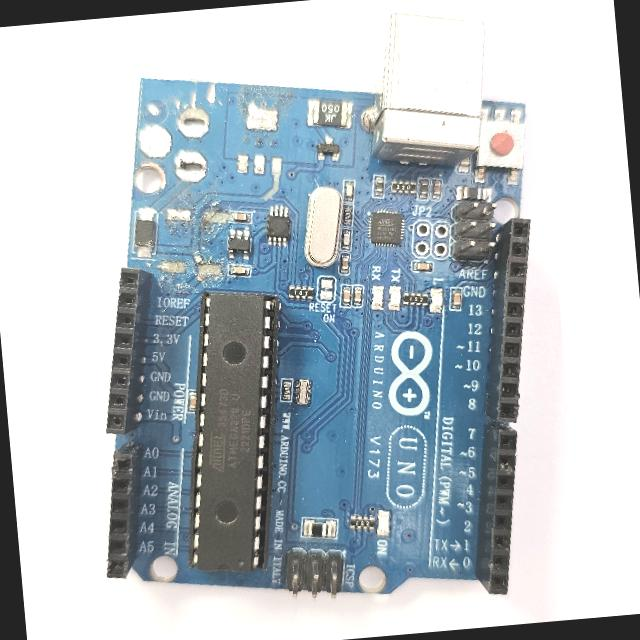missing_capacitors: (154, 202, 232, 284)
missing_eps: (149, 94, 221, 188)
missing_voltage_reg: (227, 96, 299, 188)
